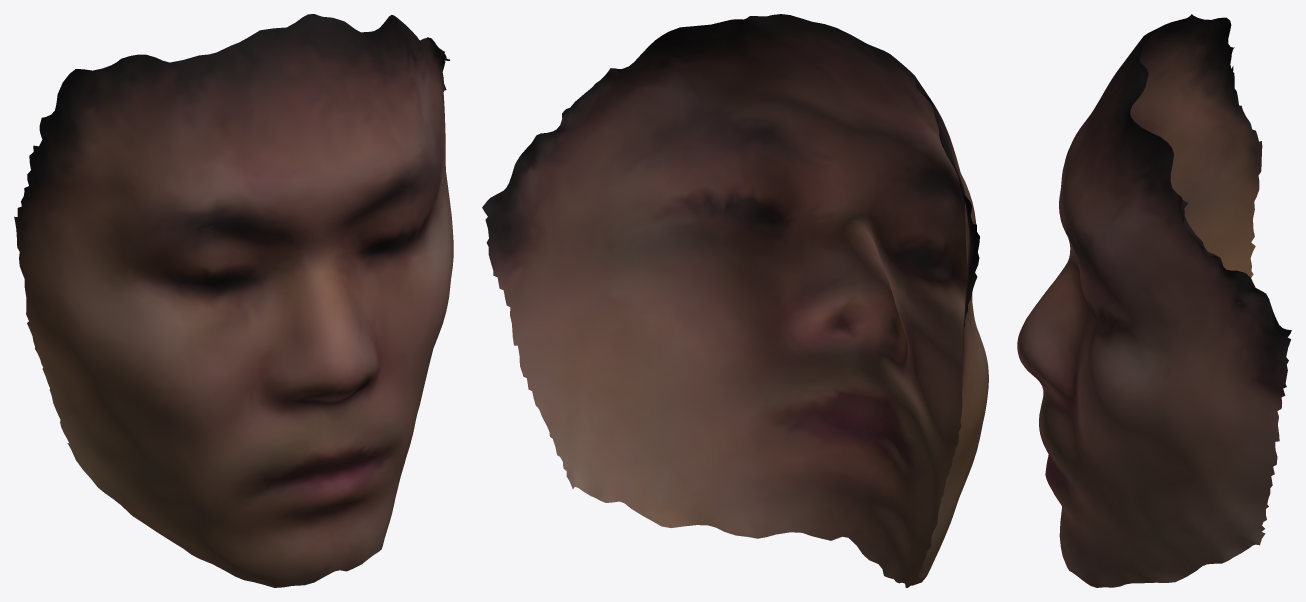
The picture shows the model from 3 angles, left to right: view 1: azimuth 30°, elevation 25°; view 2: azimuth 150°, elevation 25°; view 3: azimuth 270°, elevation 25°; orthographic projection. The views are drawn at different scales.
Size of the model in its own units: 1.3 by 1.51 by 0.7424.
